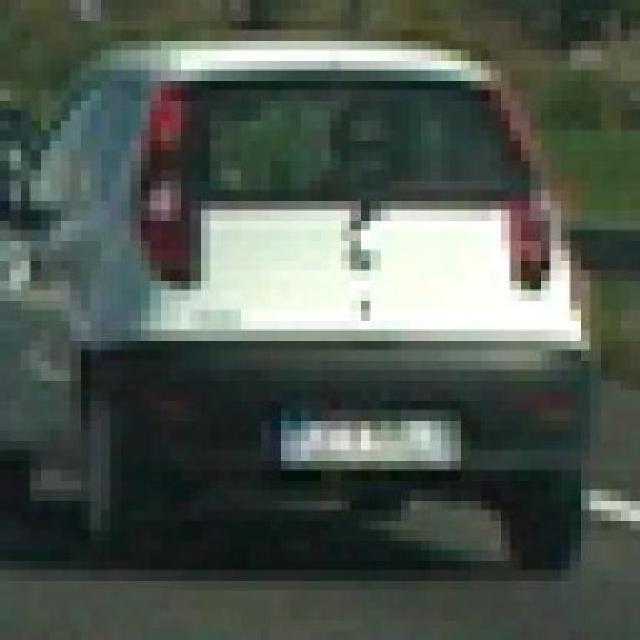vehicle: (0, 21, 600, 572)
